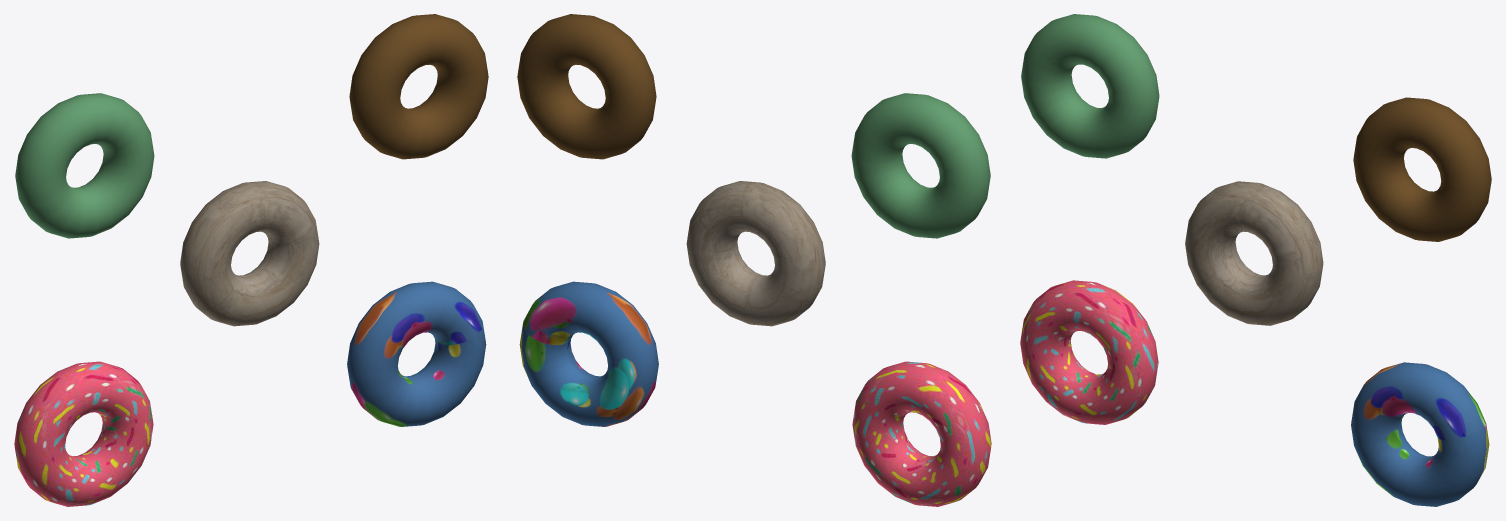
The model's file is donut.fbx.
3 renders of one model, left to right at view 1: azimuth 30°, elevation 25°; view 2: azimuth 150°, elevation 25°; view 3: azimuth 330°, elevation 25°, orthographic.
Parts seen in each view (by area): view 1: polySurface1; view 2: polySurface1; view 3: polySurface1.
Part boxes in pixels (bbox=[...]): polySurface1: bbox=[14, 14, 488, 506]; polySurface1: bbox=[517, 14, 991, 506]; polySurface1: bbox=[1020, 14, 1491, 506].
Size of the model in its own units: 10.58 by 8.82 by 1.
Materials: 5 (3 with a texture image).
